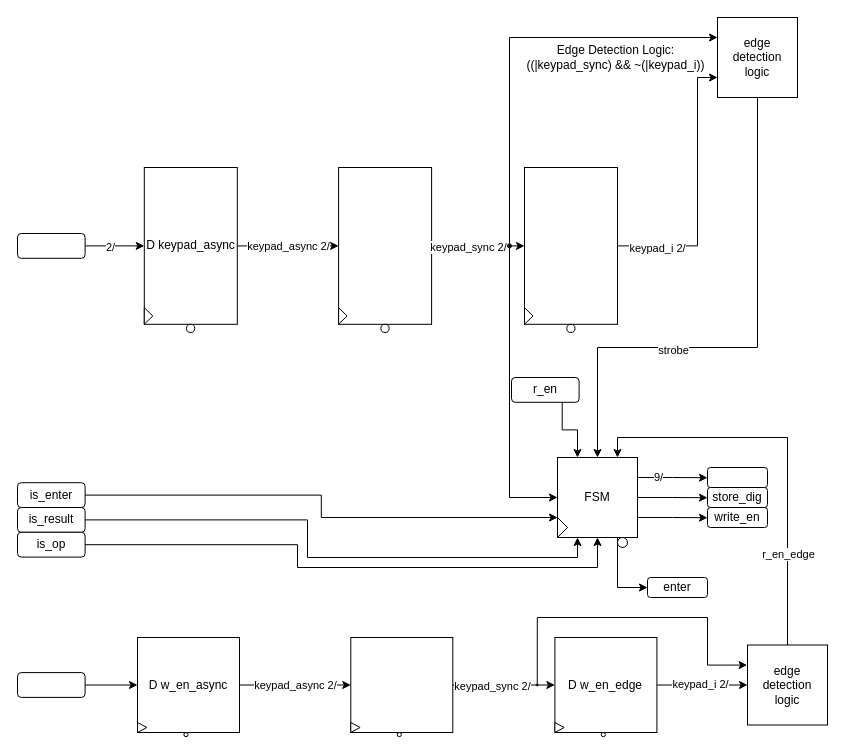
Some shapes in this 845 by 755 pixel diagram are drawn without their labels. The shapes that lost their labels are listed below. From the top down, each one's centre as x and y in pixels, then its label:
At [50,245]: "keypad".
At [385,245]: "D keypad_sync".
At [571,245]: "D keypad_edge".
At [737,477]: "keycode".
At [50,684]: "w_en".
At [401,684]: "D w_en_sync".
